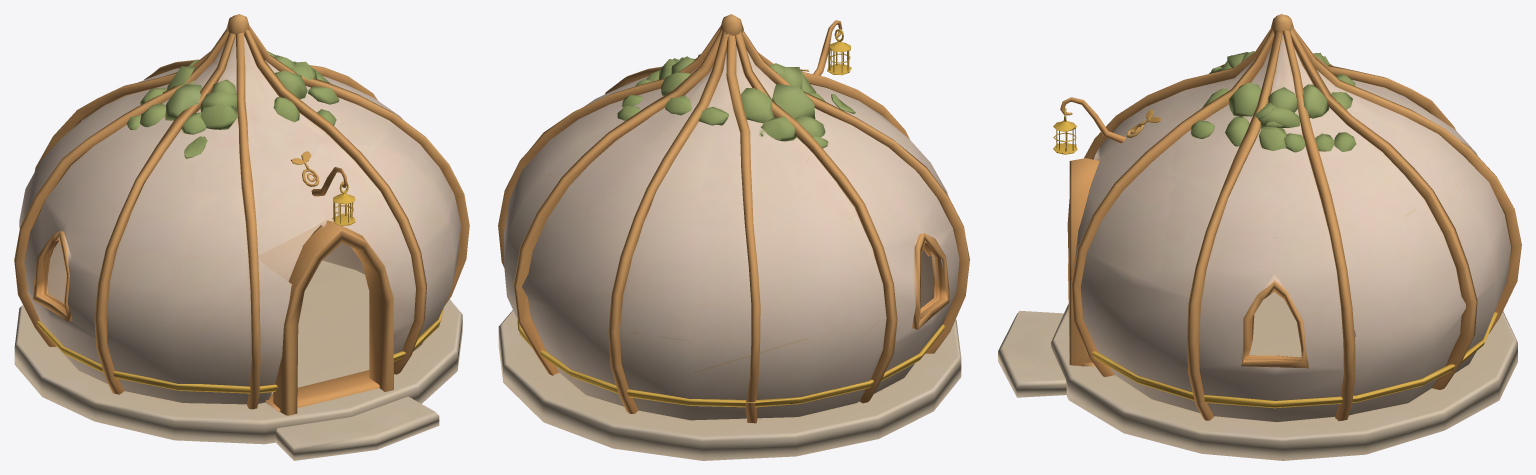
The model's file is abri_meshy.glb.
3 views of the same model, side by side, from view 1: azimuth 30°, elevation 25°; view 2: azimuth 150°, elevation 25°; view 3: azimuth 270°, elevation 25° (orthographic). The views are drawn at different scales.
Parts seen in each view (by area): view 1: geometry_0; view 2: geometry_0; view 3: geometry_0.
Boxes of the visible parts, left/top/right/bottom form: geometry_0: left=14, top=14, right=469, bottom=460; geometry_0: left=498, top=14, right=969, bottom=460; geometry_0: left=998, top=14, right=1521, bottom=460.
Bounding box in the file's own units: 0.8594 × 0.7007 × 0.9556.
Materials: 1 (1 with a texture image).
